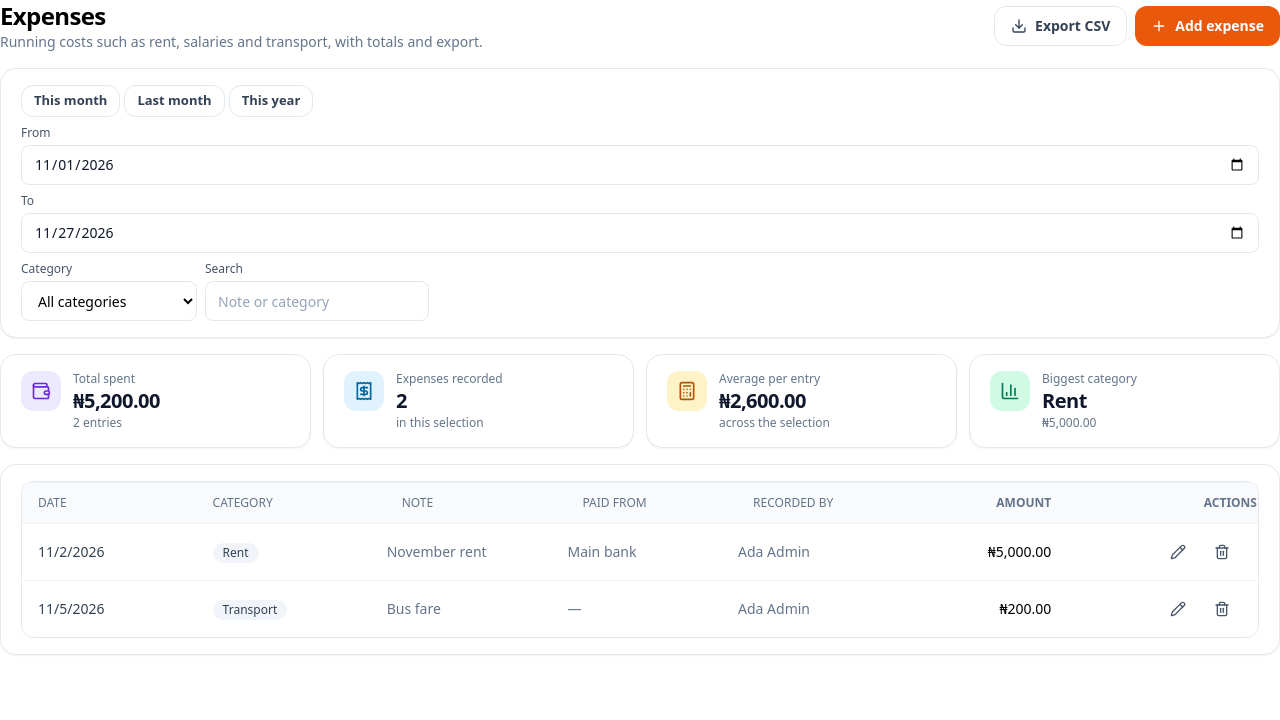
ExpensesPage › records a new expense
Later steps or results of the test are not shown.
Expected: the text "November rent" is shown, x1=386 y1=524 x2=566 y2=580
Click the button "Add expense": coordinates (1208, 26) x1=1135 y1=6 x2=1279 y2=46
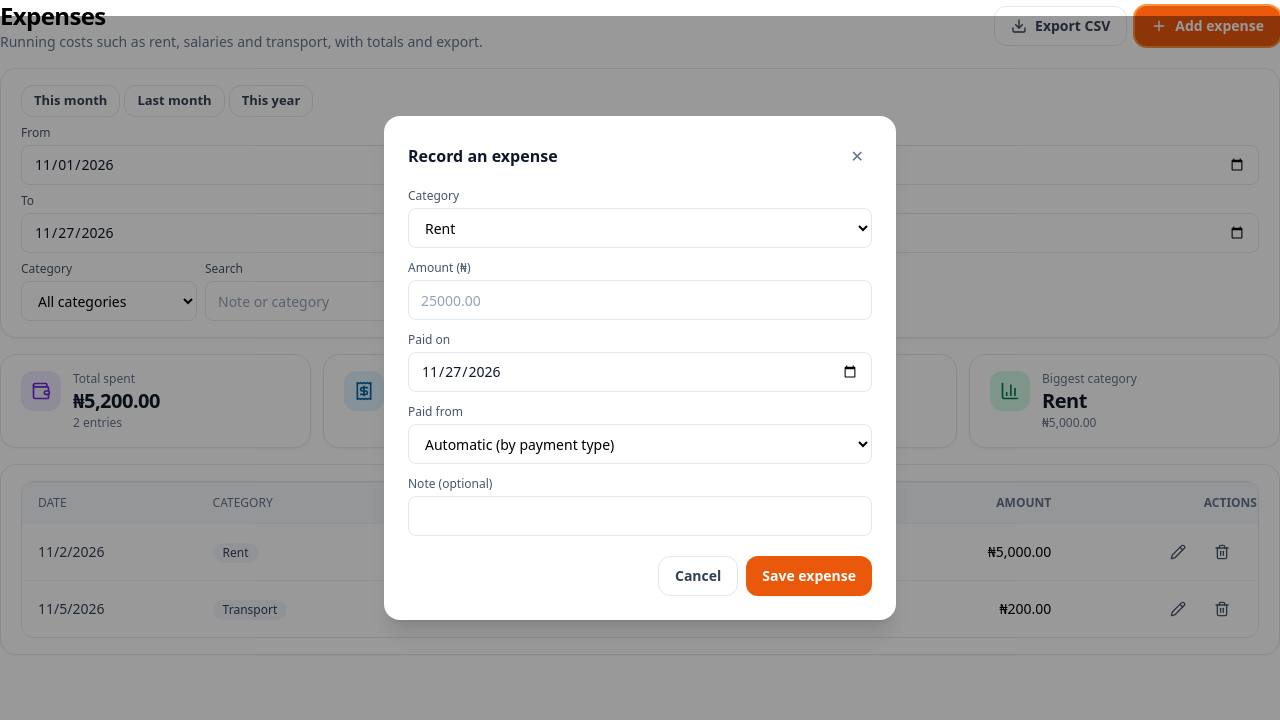
Now the heading "Record an expense" is shown, box x1=408 y1=144 x2=558 y2=168
